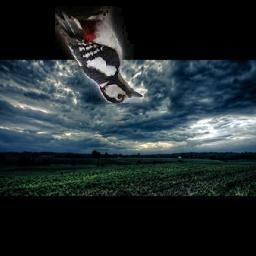Woodpecker: (55, 7, 143, 104)
